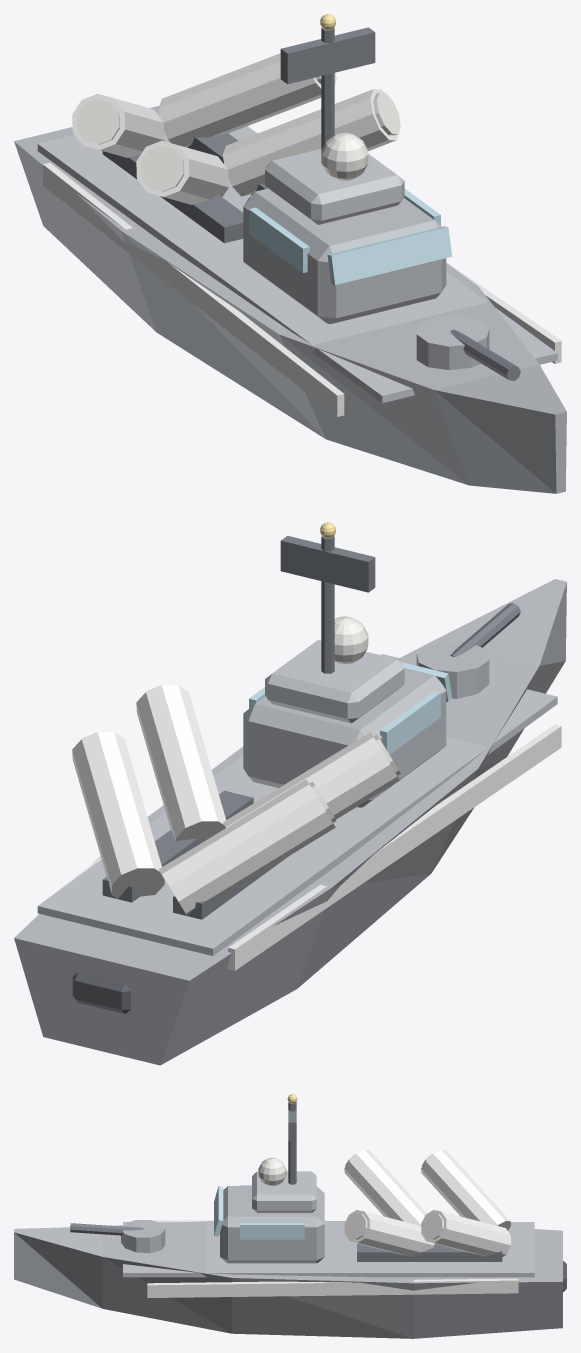
Rendered from missileboat.glb.
3 views of the same model, one above another, from view 1: azimuth 30°, elevation 25°; view 2: azimuth 150°, elevation 25°; view 3: azimuth 270°, elevation 25° (orthographic). The views are drawn at different scales.
Visible parts, largest first — view 1: main, turret; view 2: main, turret; view 3: main, turret.
Boxes of the visible parts, <box> form: main: <box>14,14,566,493</box>; turret: <box>416,315,520,380</box>; main: <box>14,522,566,1065</box>; turret: <box>416,603,520,698</box>; main: <box>14,1094,566,1338</box>; turret: <box>70,1220,165,1253</box>.
Bounding box in the file's own units: 0.4456 × 0.612 × 1.37.
